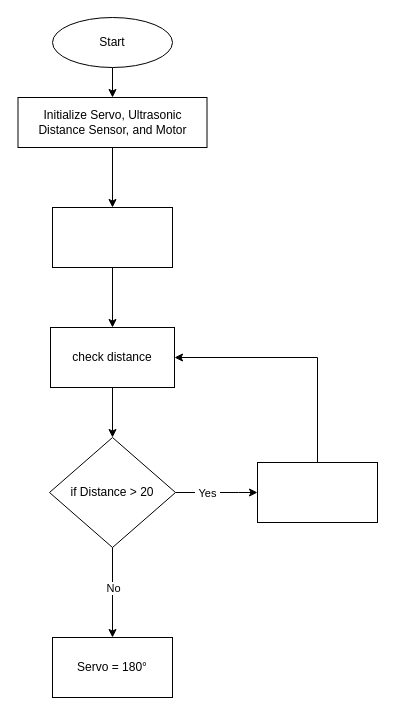
Some shapes in this 395 by 715 pixel diagram are drawn without their labels. Here are the shapes that lost their labels. From the top down, the box of each, then its label:
(52, 206, 172, 268): Servo = 90°
(256, 462, 378, 522): go foward
